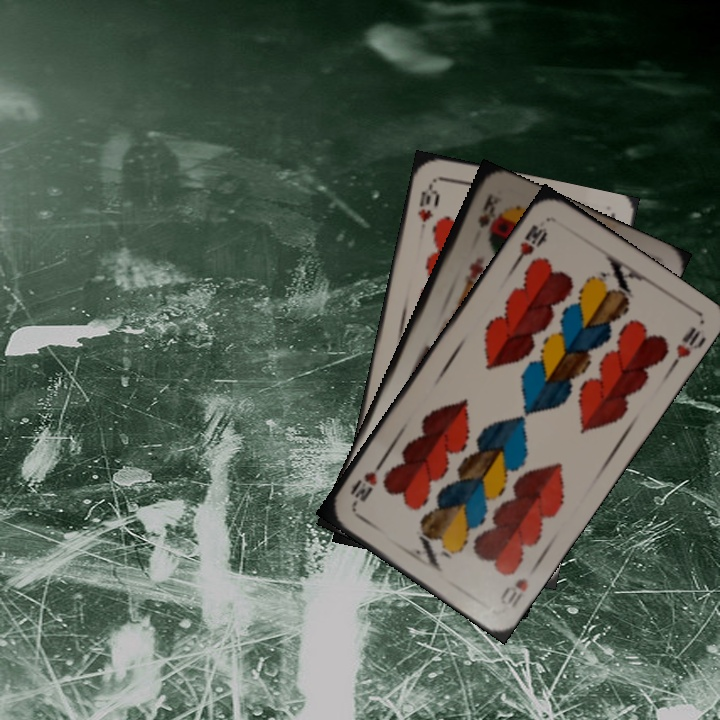H10: (511, 220, 551, 268), (413, 178, 442, 225), (496, 573, 531, 611)
SK: (473, 190, 502, 231)
